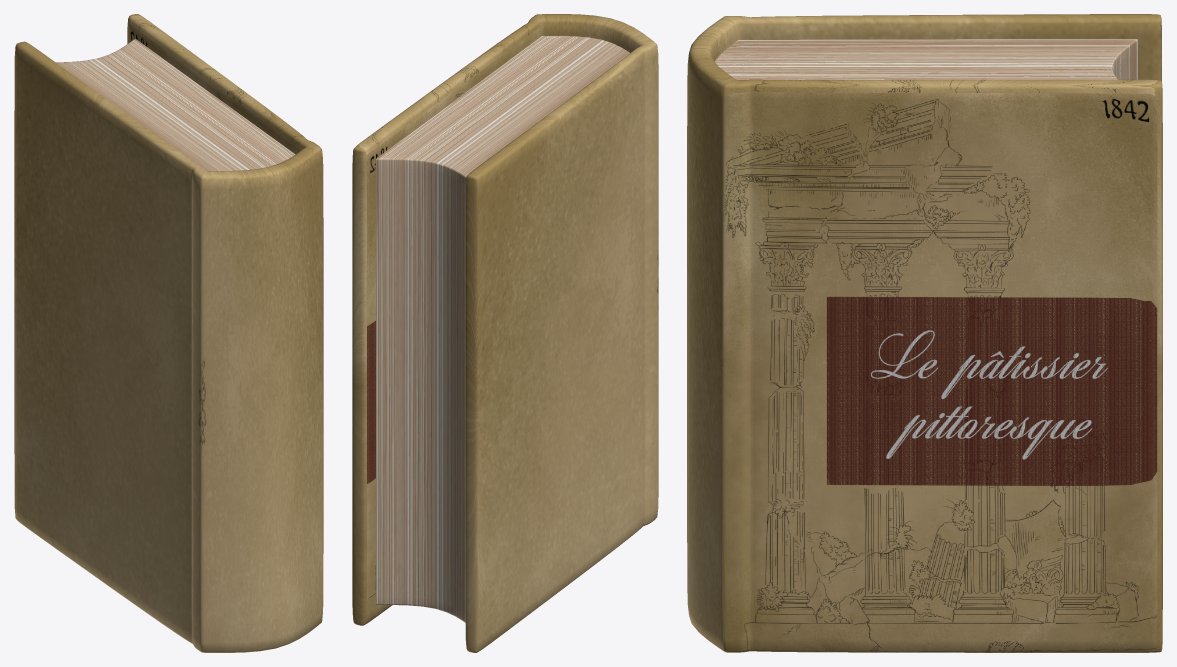
Rendered from book-3.glb.
3 views of the same model, side by side, from view 1: azimuth 30°, elevation 25°; view 2: azimuth 150°, elevation 25°; view 3: azimuth 270°, elevation 25° (orthographic). The views are drawn at different scales.
Parts seen in each view (by area): view 1: Le patissier pittoresque, Book Pages.003; view 2: Le patissier pittoresque, Book Pages.003; view 3: Le patissier pittoresque, Book Pages.003.
Part boxes in pixels (<box>): Le patissier pittoresque: <box>14,14,323,652</box>; Book Pages.003: <box>56,38,295,170</box>; Le patissier pittoresque: <box>352,14,658,652</box>; Book Pages.003: <box>376,36,629,622</box>; Le patissier pittoresque: <box>687,14,1162,652</box>; Book Pages.003: <box>715,39,1137,79</box>.
Size of the model in its own units: 0.2944 by 1.05 by 0.793.
2 materials, 2 textured.
